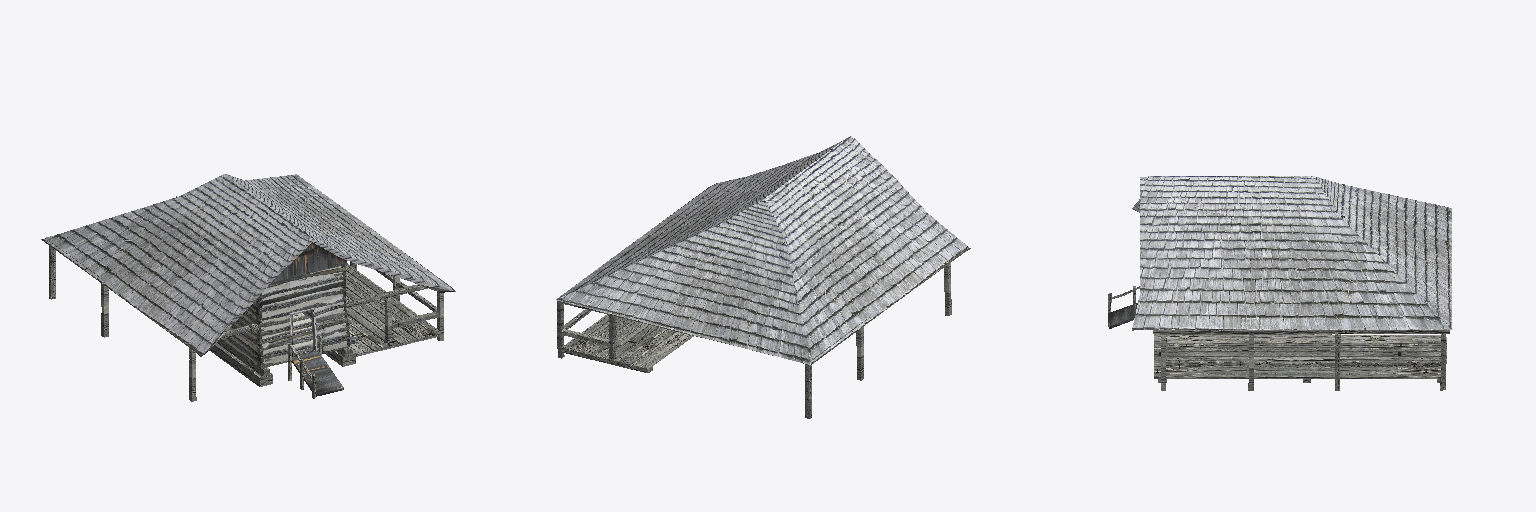
3 renders of one model, left to right at view 1: azimuth 30°, elevation 25°; view 2: azimuth 150°, elevation 25°; view 3: azimuth 270°, elevation 25°, orthographic.
Parts seen in each view (by area): view 1: woodcutters; view 2: woodcutters; view 3: woodcutters.
Part boxes in pixels (bbox=[...]): woodcutters: bbox=[41, 174, 455, 401]; woodcutters: bbox=[556, 136, 970, 418]; woodcutters: bbox=[1108, 176, 1451, 390].
Bounding box in the file's own units: 22.68 × 12.3 × 26.14.
6 materials, 3 textured.